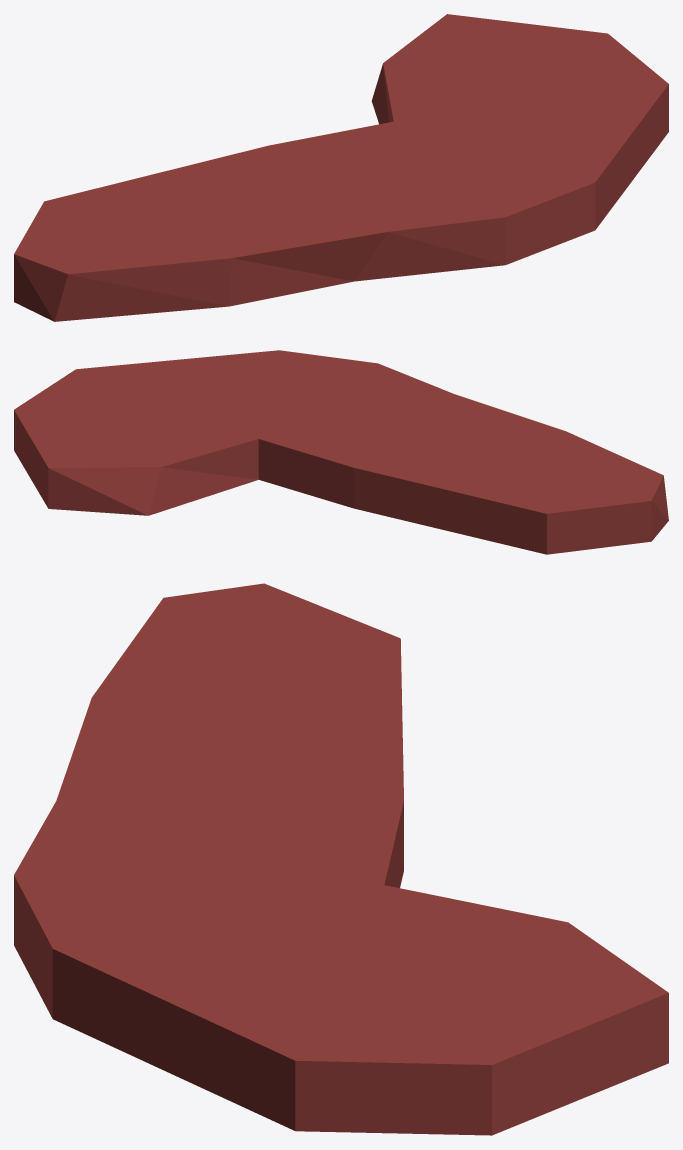
Rendered from RAS_Ground02.fbx.
The picture shows the model from 3 angles, top to bottom: view 1: azimuth 30°, elevation 25°; view 2: azimuth 150°, elevation 25°; view 3: azimuth 270°, elevation 25°; orthographic projection. The views are drawn at different scales.
Parts seen in each view (by area): view 1: RAS_Ground02; view 2: RAS_Ground02; view 3: RAS_Ground02.
Part boxes in pixels (bbox=[...]): RAS_Ground02: bbox=[14, 14, 668, 321]; RAS_Ground02: bbox=[14, 350, 668, 554]; RAS_Ground02: bbox=[14, 583, 668, 1135].
Bounding box in the file's own units: 401 × 27.37 × 231.
1 material, 1 textured.
